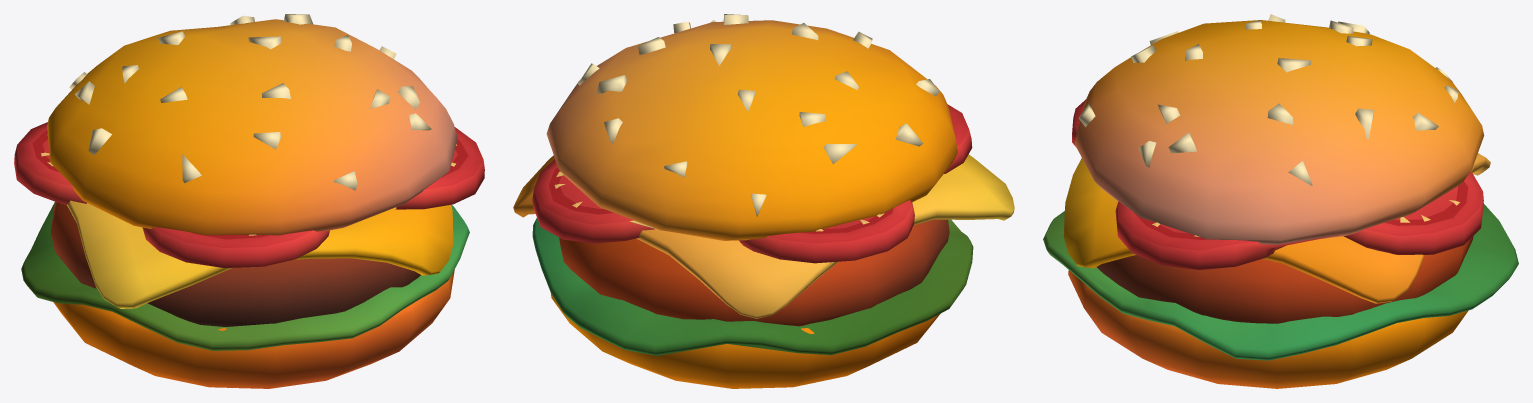
The model's file is burger_001.glb.
3 renders of one model, left to right at view 1: azimuth 30°, elevation 25°; view 2: azimuth 150°, elevation 25°; view 3: azimuth 270°, elevation 25°, orthographic.
Parts seen in each view (by area): view 1: burger_001; view 2: burger_001; view 3: burger_001.
Boxes of the visible parts, box(x1,y1,x2,y2) form: burger_001: box(14, 14, 484, 388); burger_001: box(513, 14, 1014, 388); burger_001: box(1043, 14, 1518, 388).
Size of the model in its own units: 0.1398 by 0.0894 by 0.1398.
1 material, 1 textured.
